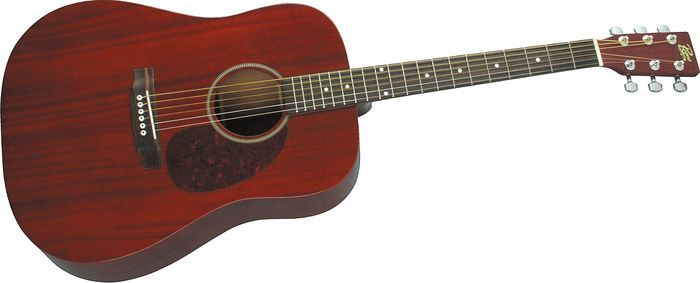guitar: (1, 1, 700, 283)
